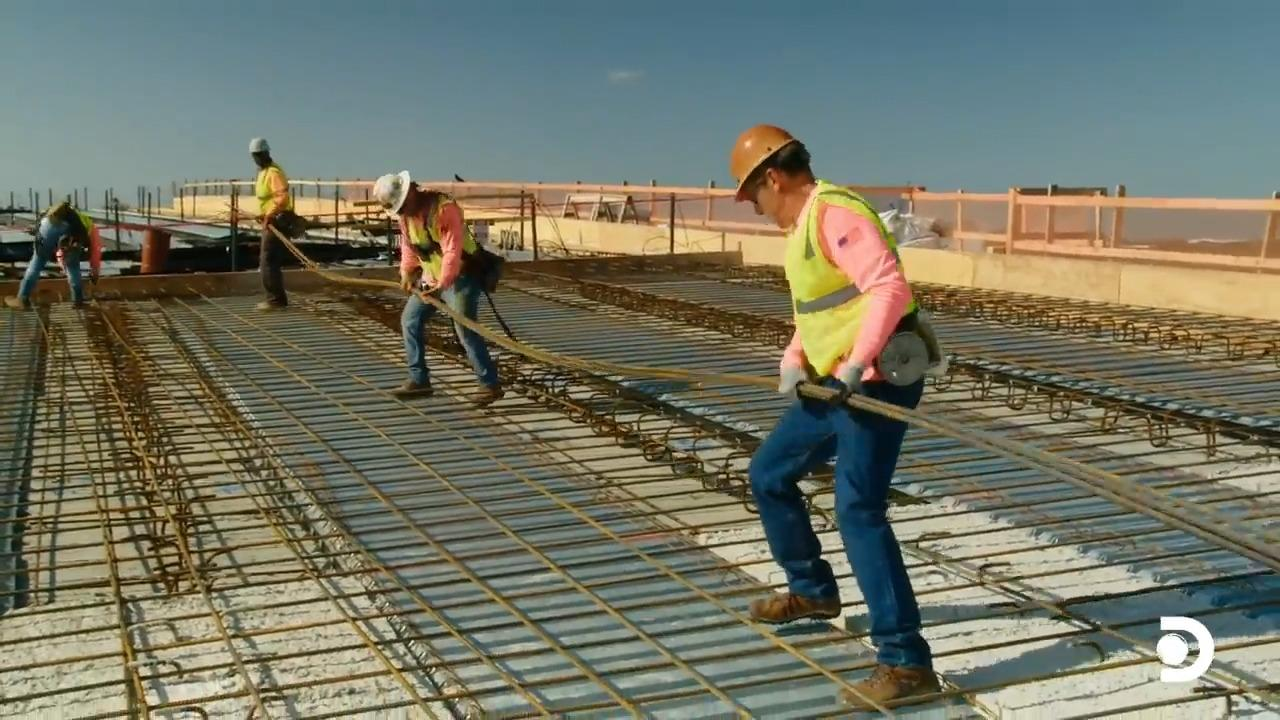Gloves: (824, 367, 870, 414), (778, 352, 814, 407), (421, 280, 441, 309)
Helmet: (729, 124, 796, 202), (373, 169, 410, 217), (248, 137, 269, 154)
Person: (729, 124, 943, 711), (372, 169, 504, 404), (3, 200, 101, 309), (248, 136, 291, 311)
Safety Boot: (830, 660, 943, 709), (745, 586, 828, 627), (392, 380, 432, 403), (466, 388, 505, 405), (258, 293, 292, 311)
Safety Vest: (791, 231, 907, 382), (411, 209, 483, 278), (255, 168, 284, 213)
